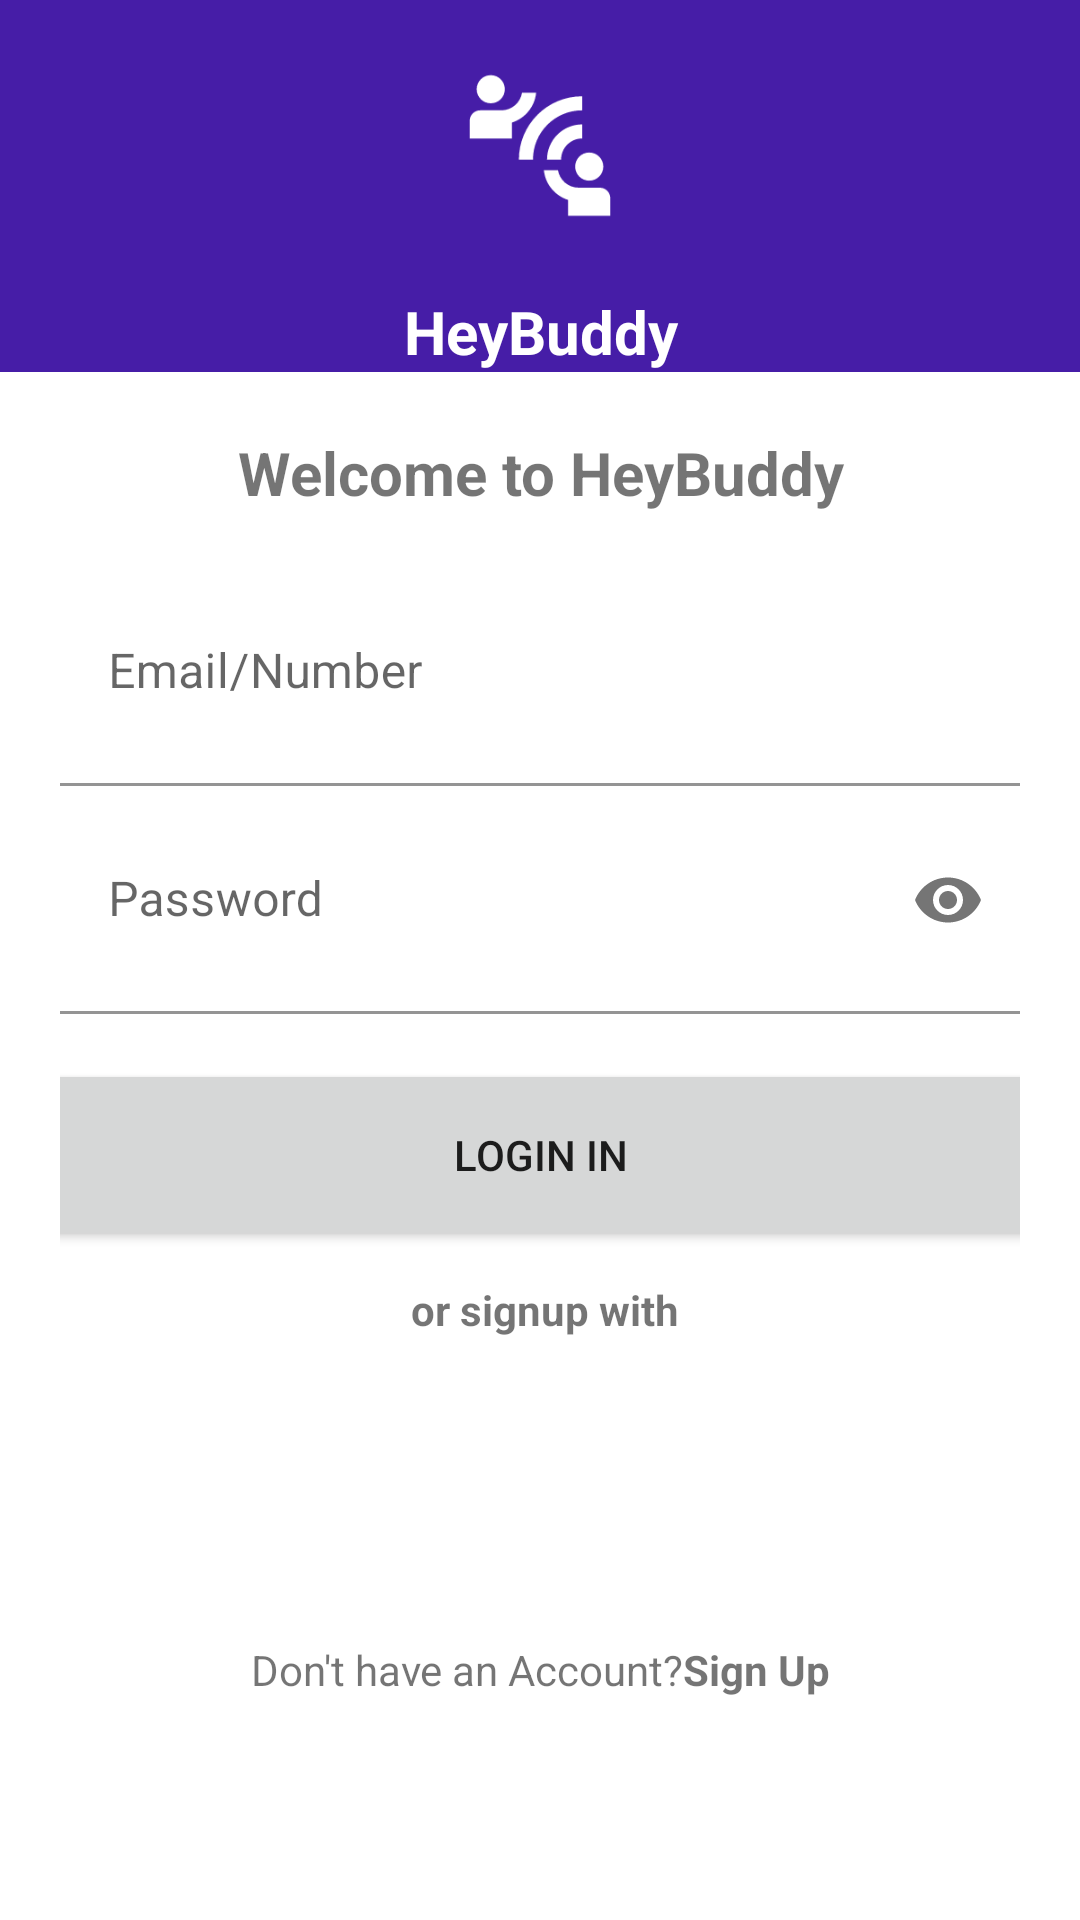

Icon click points for this 1080w x 1920h phone screenshot, format point (x, y):
hellobuddy: point (540, 145)
